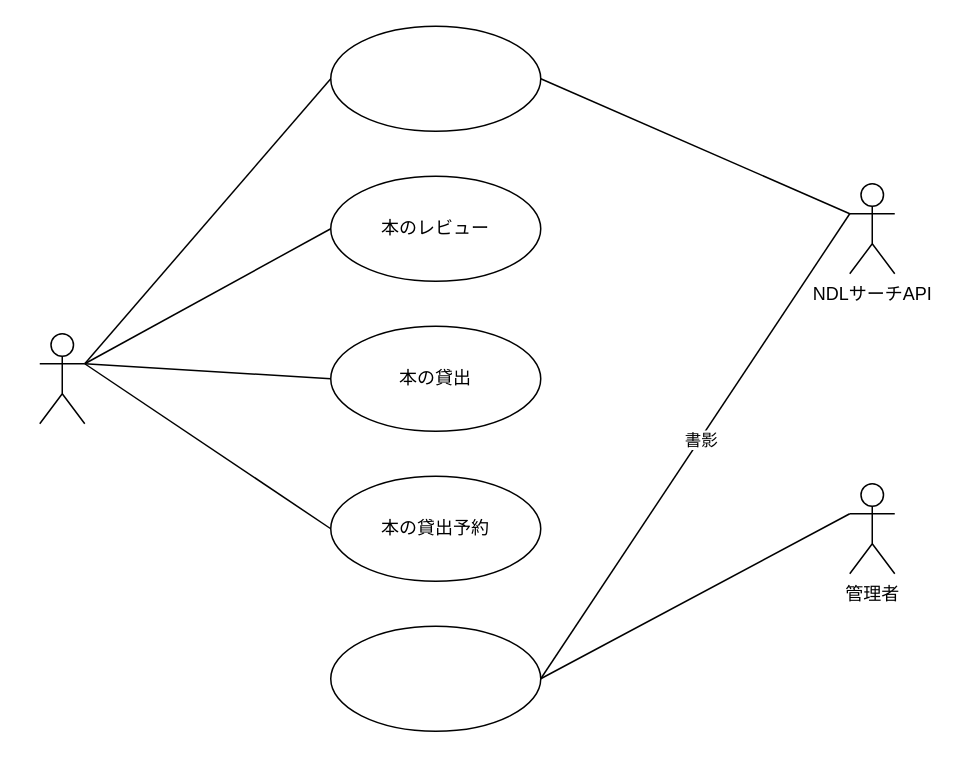
The diagram is 957 pixels wide and 758 high, and some of its shapes have lost their labels. Here are the shapes that lost their labels. From the top down, the box of each, then its label:
(329, 25, 541, 131): 本の検索
(38, 332, 85, 424): ユーザー
(329, 625, 541, 731): 書籍データの登録・削除
